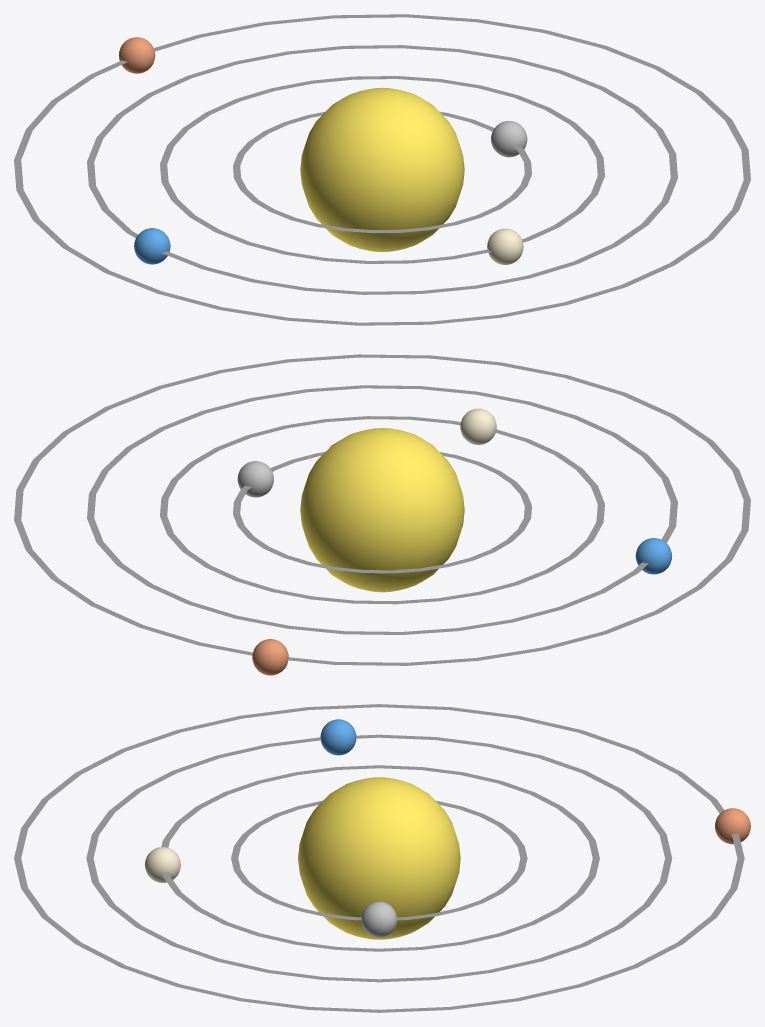
Rendered from solar_system.glb.
3 renders of one model, top to bottom at view 1: azimuth 30°, elevation 25°; view 2: azimuth 150°, elevation 25°; view 3: azimuth 270°, elevation 25°, orthographic.
Parts seen in each view (by area): view 1: sun_node, orbit_node_3, orbit_node_2, orbit_node_1, orbit_node_0, planet_node_1, planet_node_2, planet_node_3, planet_node_0; view 2: sun_node, orbit_node_3, orbit_node_2, orbit_node_1, orbit_node_0, planet_node_3, planet_node_1, planet_node_2, planet_node_0; view 3: sun_node, orbit_node_3, orbit_node_2, orbit_node_1, orbit_node_0, planet_node_0, planet_node_2, planet_node_1, planet_node_3.
Boxes of the visible parts, x1,y1,x2,y2 form: sun_node: (300, 87, 464, 252); orbit_node_3: (14, 14, 750, 325); orbit_node_2: (87, 45, 677, 294); orbit_node_1: (160, 76, 604, 263); orbit_node_0: (233, 112, 531, 233); planet_node_1: (487, 228, 523, 264); planet_node_2: (134, 228, 170, 264); planet_node_3: (118, 37, 155, 73); planet_node_0: (491, 121, 527, 157); sun_node: (300, 428, 464, 592); orbit_node_3: (14, 354, 750, 665); orbit_node_2: (87, 385, 677, 634); orbit_node_1: (160, 416, 604, 604); orbit_node_0: (233, 452, 531, 573); planet_node_3: (252, 639, 288, 675); planet_node_1: (460, 408, 496, 444); planet_node_2: (635, 538, 672, 574); planet_node_0: (237, 461, 273, 497); sun_node: (298, 777, 460, 939); orbit_node_3: (14, 704, 744, 1012); orbit_node_2: (86, 734, 672, 982); orbit_node_1: (161, 765, 599, 951); orbit_node_0: (231, 800, 527, 920); planet_node_0: (361, 901, 397, 937); planet_node_2: (320, 719, 356, 755); planet_node_1: (144, 847, 180, 882); planet_node_3: (715, 808, 750, 844).
Size of the model in its own units: 4.04 by 0.9 by 4.08.
